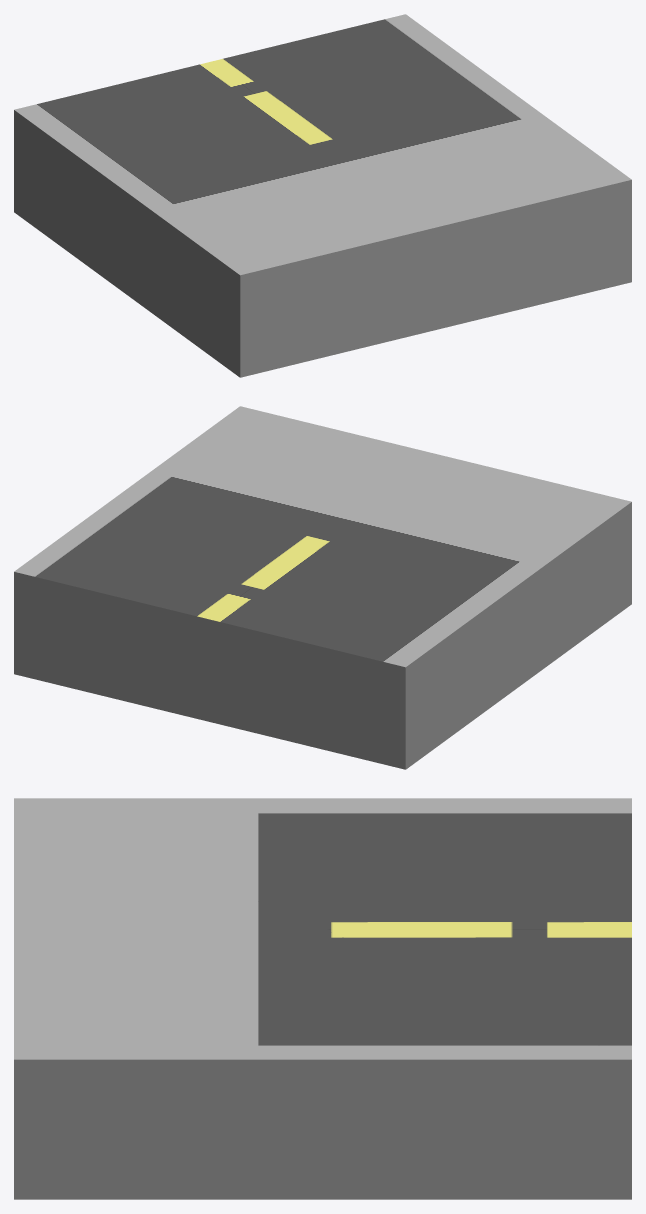
File: 2025-11-26-Boswell-EndRoad-v002.fbx
The picture shows the model from 3 angles, top to bottom: view 1: azimuth 30°, elevation 25°; view 2: azimuth 150°, elevation 25°; view 3: azimuth 270°, elevation 25°; orthographic projection. The views are drawn at different scales.
Visible parts, largest first — view 1: Cube; view 2: Cube; view 3: Cube.
Boxes of the visible parts, x1,y1,x2,y2 form: Cube: (14,14,631,377); Cube: (14,406,631,769); Cube: (14,798,631,1199).
Bounding box in the file's own units: 100 × 25 × 100.
2 materials, 1 textured.
